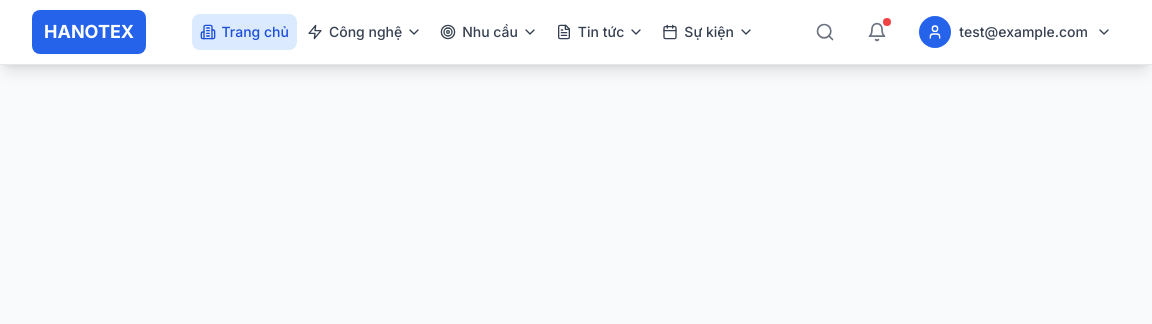
Test: Header Component › toggles user menu when user button is clicked
Click the button "test@example.com": {"x": 1016, "y": 32} [911,8,1120,56]
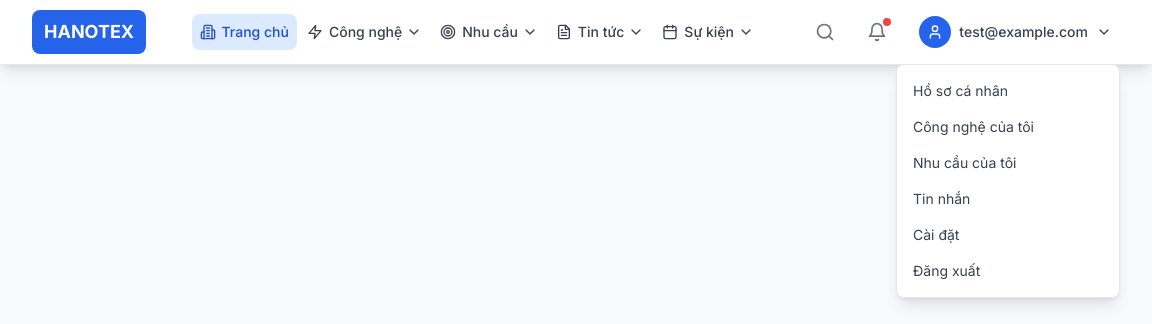
expect the link "Hồ sơ cá nhân" is shown: met, box [913,82,1008,99]
expect the button "Đăng xuất" is shown: met, box [897,253,1119,289]
